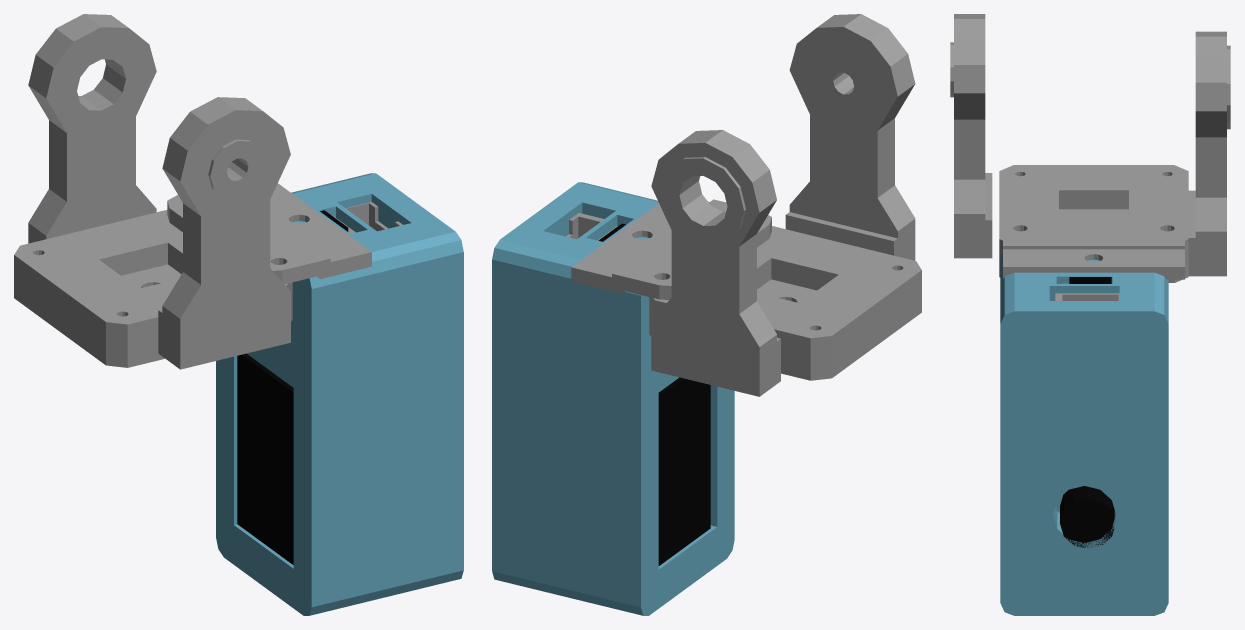
File: head-reye-y.glb
The picture shows the model from 3 angles, left to right: view 1: azimuth 30°, elevation 25°; view 2: azimuth 150°, elevation 25°; view 3: azimuth 270°, elevation 25°; orthographic projection. The views are drawn at different scales.
Size of the model in its own units: 0.0507 by 0.0769 by 0.04.
